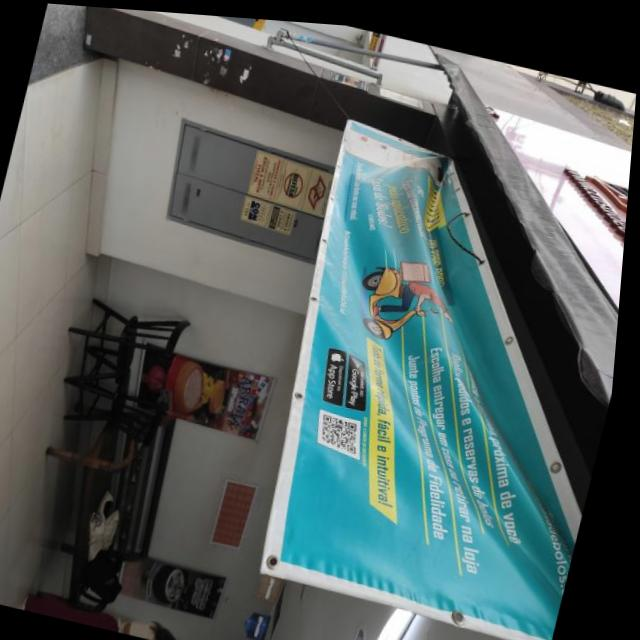qrcode: (324, 409, 369, 449)
